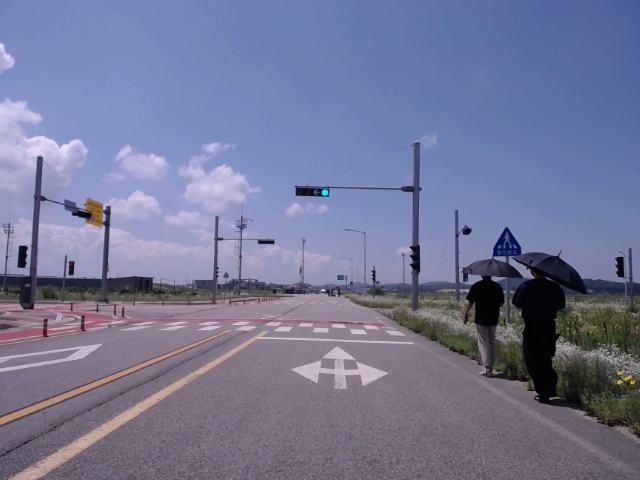all_green_4: (295, 187, 332, 199)
